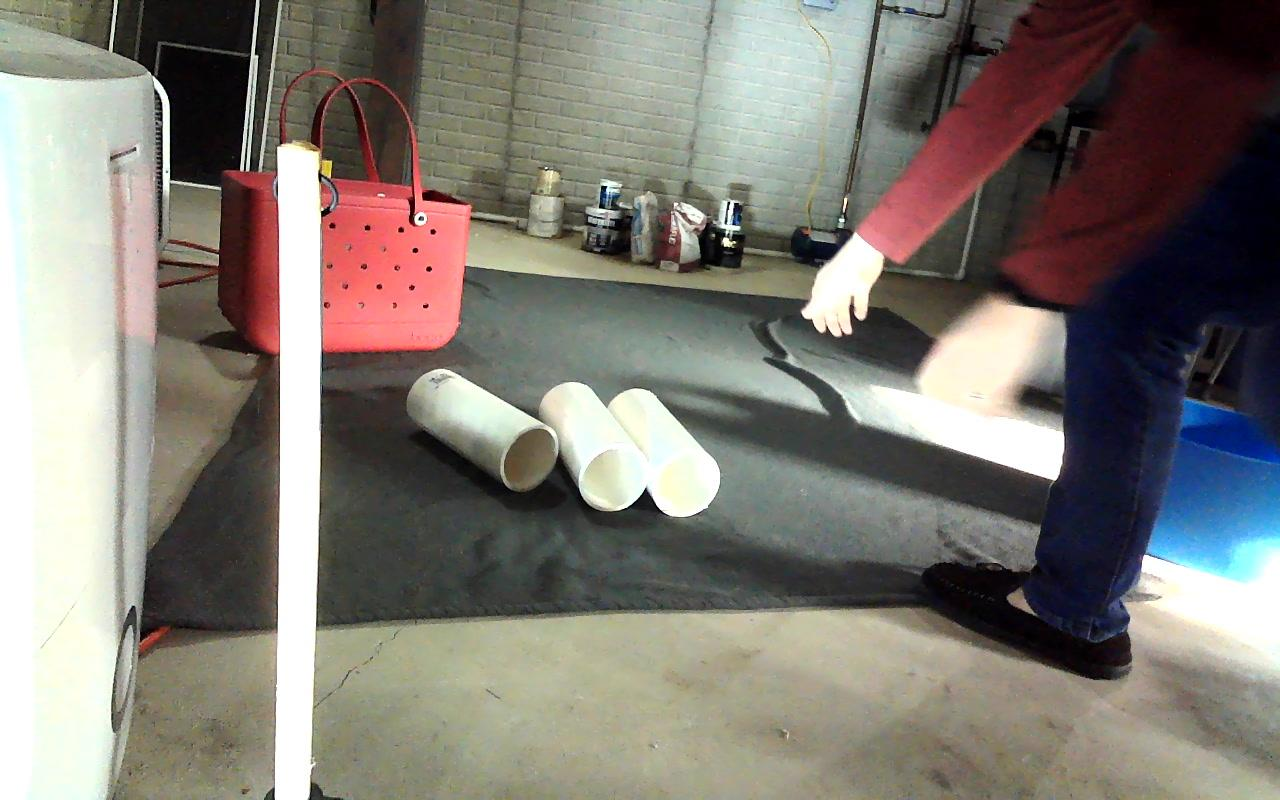coral: (405, 368, 556, 491), (611, 388, 720, 515), (541, 383, 646, 509)
